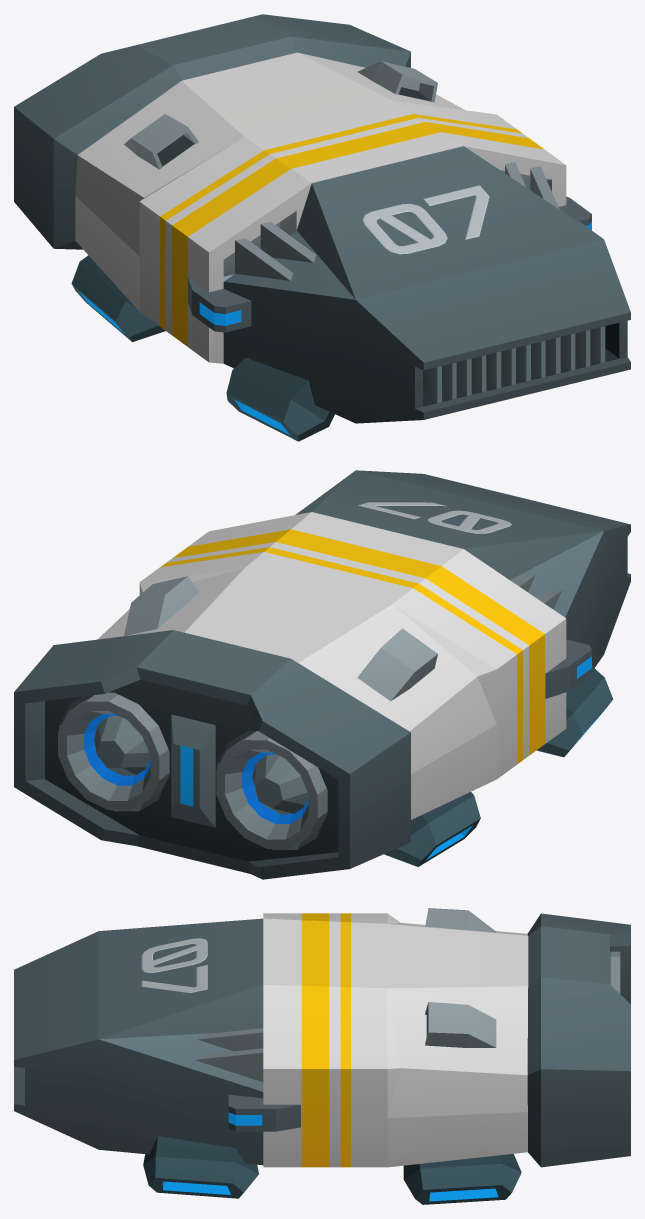
File: Cargo_drone_003.glb
3 views of the same model, one above another, from view 1: azimuth 30°, elevation 25°; view 2: azimuth 150°, elevation 25°; view 3: azimuth 270°, elevation 25° (orthographic). The views are drawn at different scales.
Visible parts, largest first — view 1: Cargo_drone_003; view 2: Cargo_drone_003; view 3: Cargo_drone_003.
Boxes of the visible parts, box(x1,y1,x2,y2) form: Cargo_drone_003: box(14, 14, 630, 441); Cargo_drone_003: box(14, 470, 630, 879); Cargo_drone_003: box(14, 908, 630, 1204).
Size of the model in its own units: 1.5 by 0.7703 by 2.38.
Materials: 2 (2 with a texture image).
